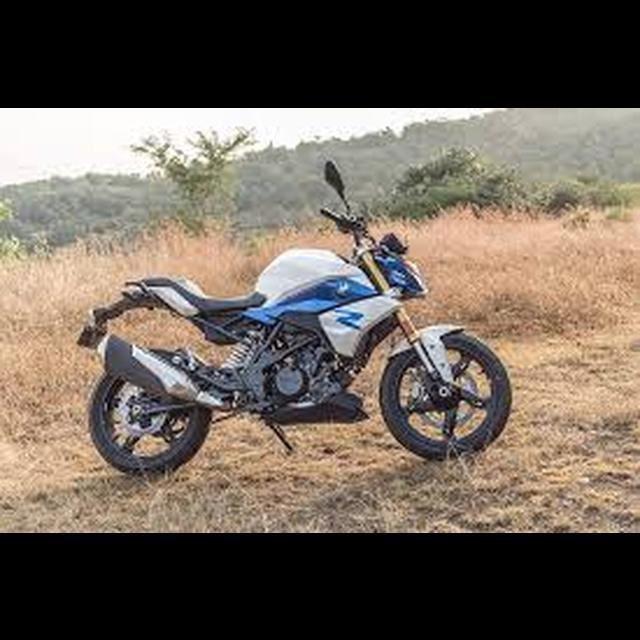motorcycle: (73, 153, 517, 481)
